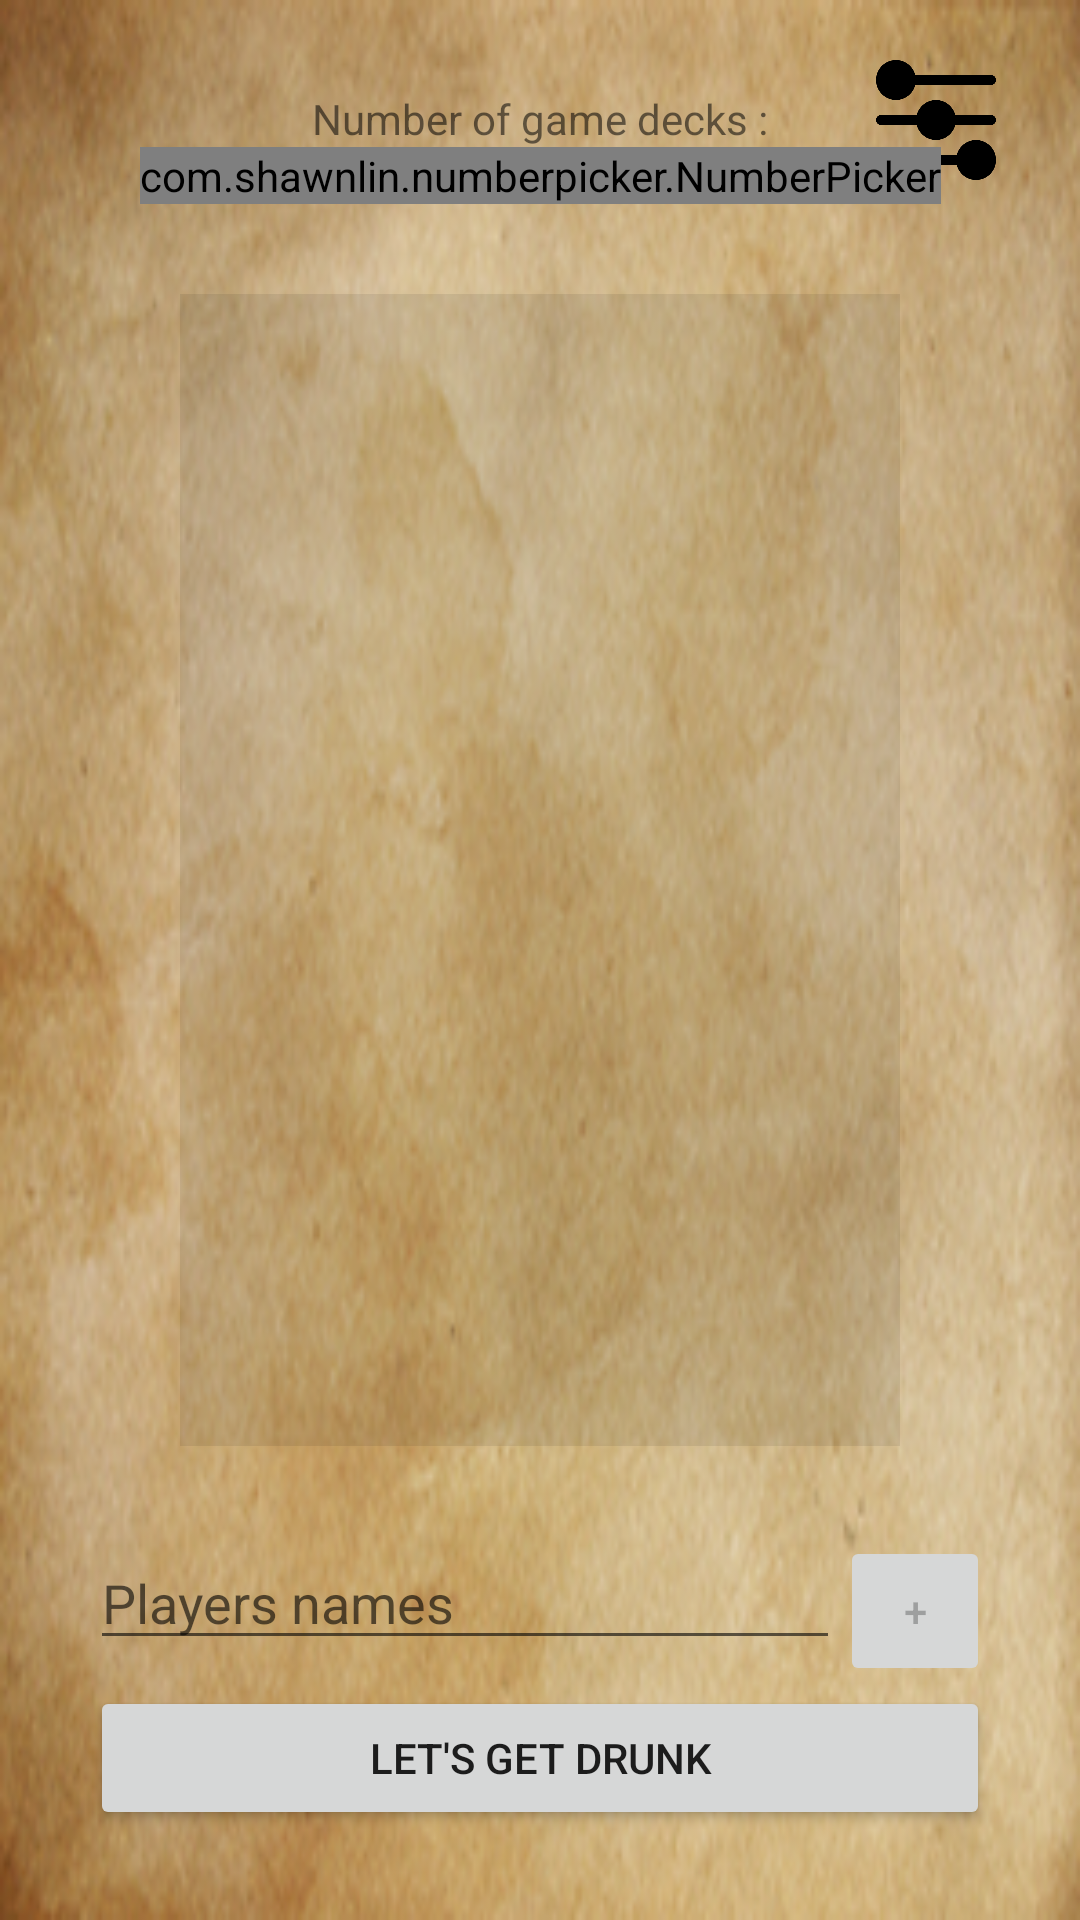

Named icons in this screenshot (1080*1920) and their centers, point (x, y):
settings: point (936, 120)
